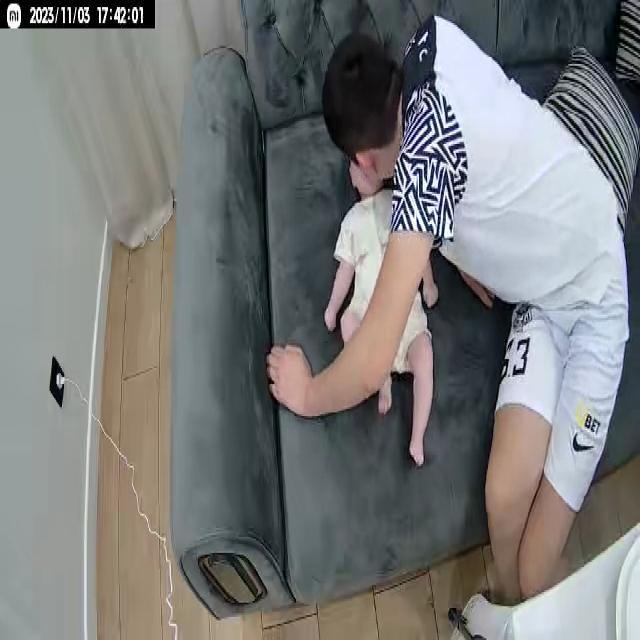baby: (322, 148, 437, 472)
